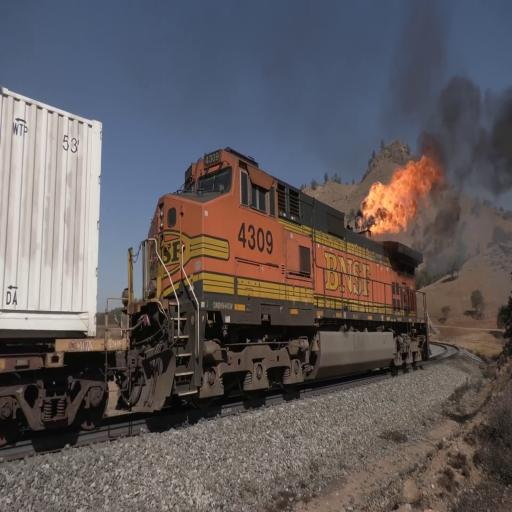fire: (384, 147, 434, 234), (359, 163, 395, 242)
smoke: (437, 76, 512, 206)
